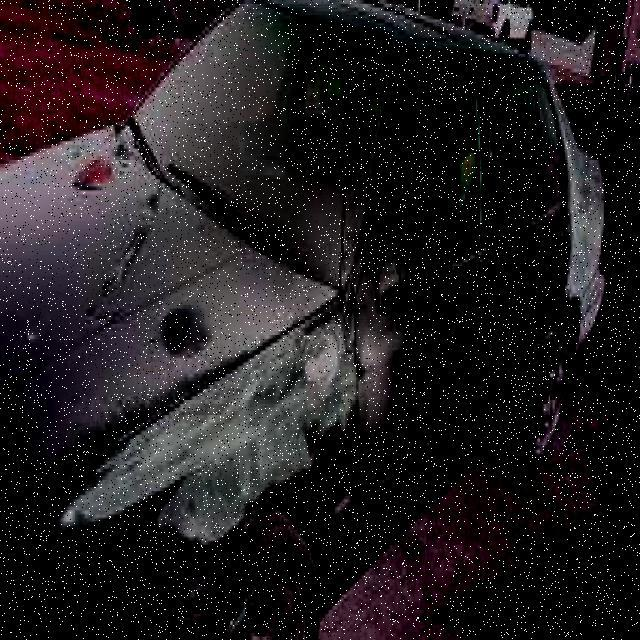car damage: (67, 303, 370, 552), (85, 183, 173, 333), (158, 292, 218, 363)
